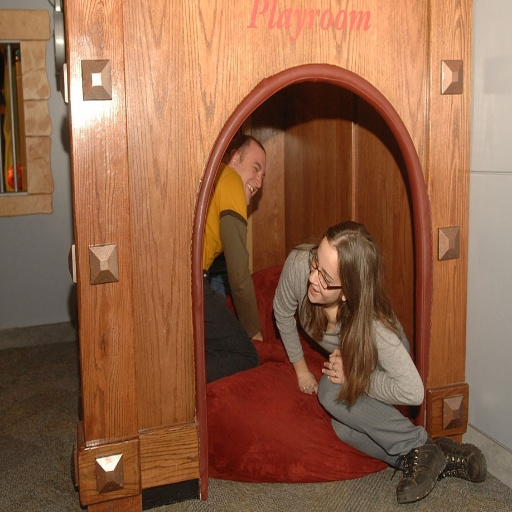hand: (321, 347, 346, 385), (296, 372, 319, 395), (252, 331, 264, 343)
